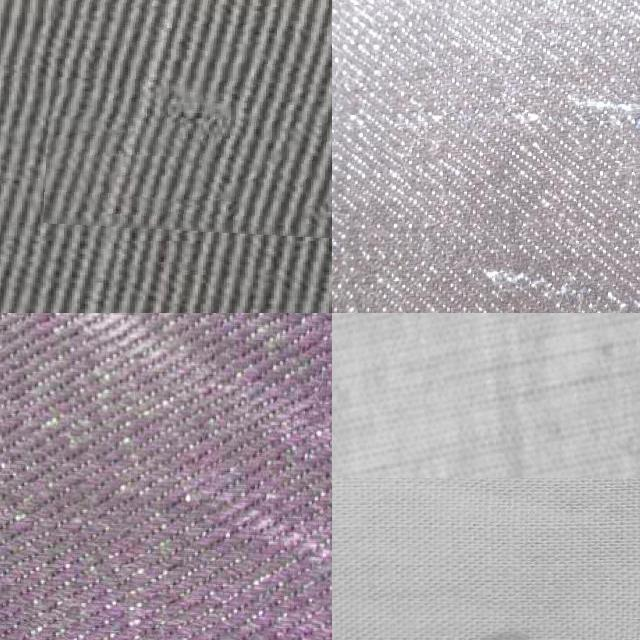stains: (332, 10, 640, 313), (46, 0, 332, 236)
